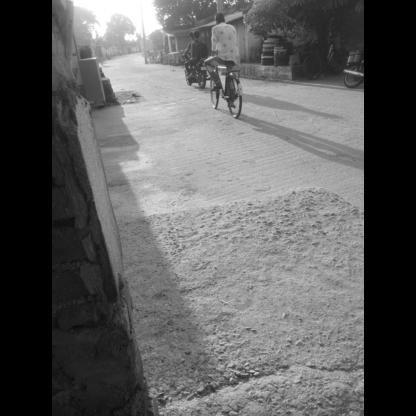Bicycle: (206, 62, 255, 120)
